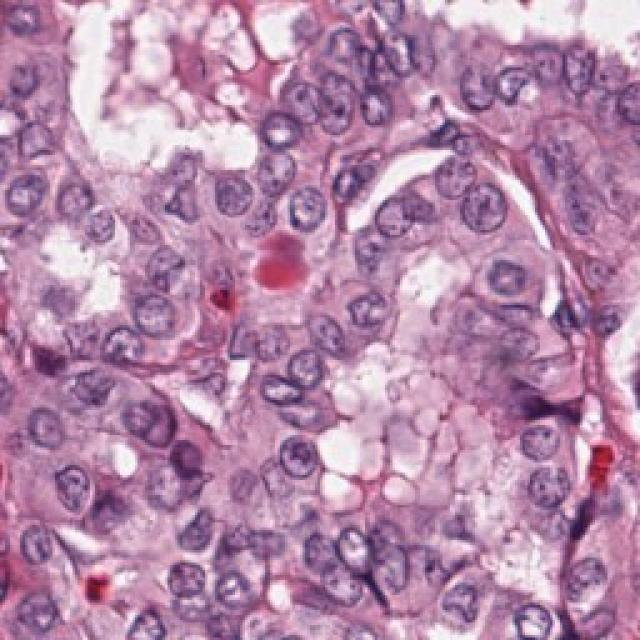abnormal: (166, 554, 252, 627), (41, 451, 120, 528), (230, 363, 326, 425), (545, 35, 616, 115), (332, 510, 388, 606), (0, 164, 72, 238), (271, 164, 333, 248), (420, 560, 485, 640), (247, 132, 307, 212), (20, 404, 102, 461), (491, 410, 580, 460), (460, 53, 536, 111), (272, 305, 351, 359), (503, 582, 575, 640), (122, 289, 188, 352), (370, 183, 432, 246), (12, 91, 59, 174), (472, 174, 525, 246), (306, 66, 362, 134), (276, 420, 328, 491), (345, 273, 391, 351), (525, 463, 579, 514)
